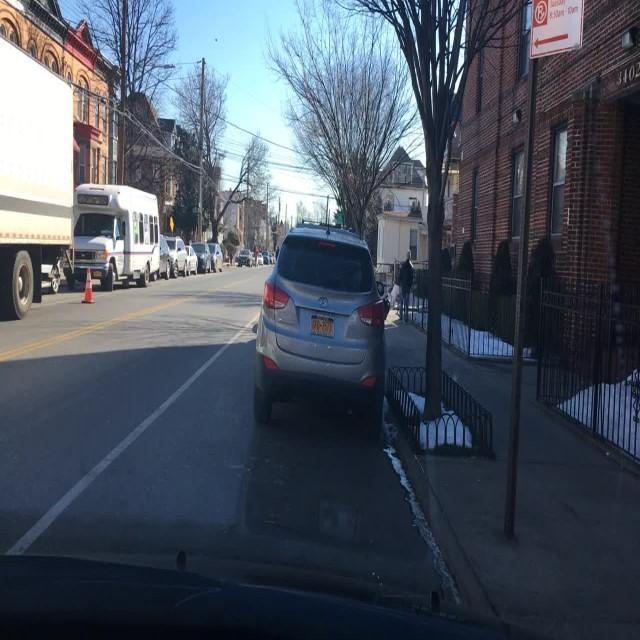normal: (222, 189, 418, 458)
